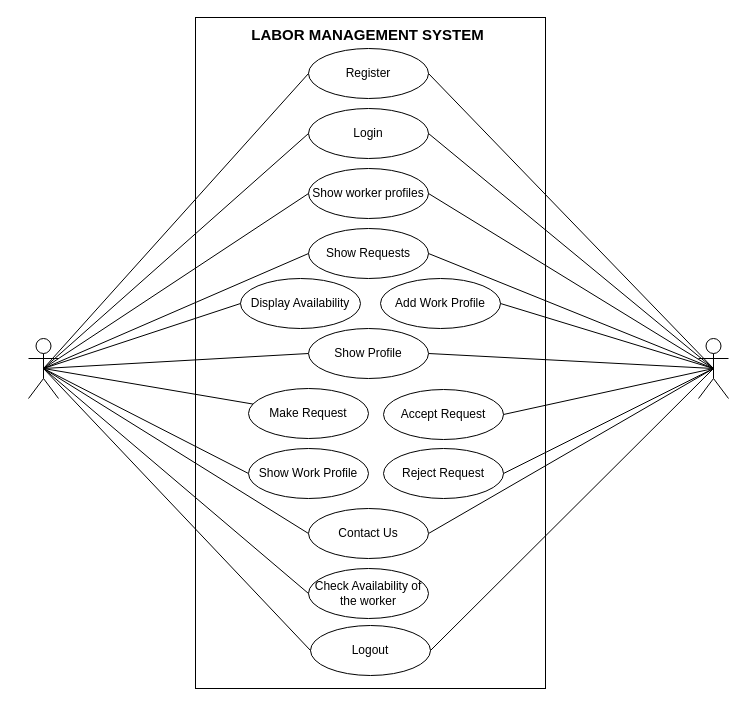
Image size: 749x706. Some labels were removed from this diagram. Here are the shapes that lost their labels. From the top down, the centre of each, then its label:
At pixel 43 368: "Customer".
At pixel 713 368: "Worker".
